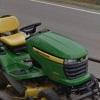Tractor: (8, 8, 100, 100)
